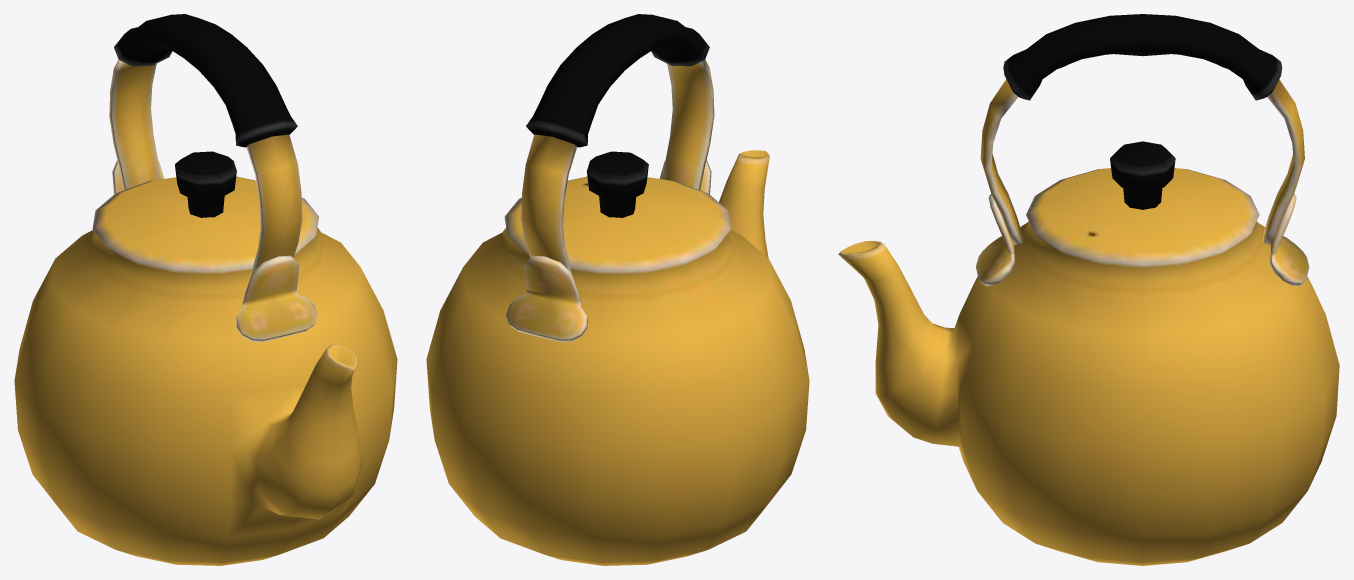
3 views of the same model, side by side, from view 1: azimuth 30°, elevation 25°; view 2: azimuth 150°, elevation 25°; view 3: azimuth 270°, elevation 25° (orthographic). The views are drawn at different scales.
Size of the model in its own units: 5.17 by 7.16 by 6.55.
1 material, 1 textured.
